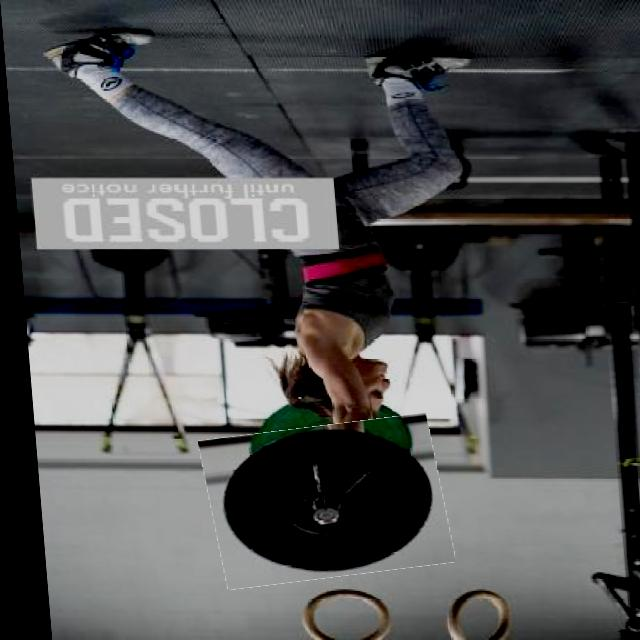barbell: (194, 420, 444, 584)
